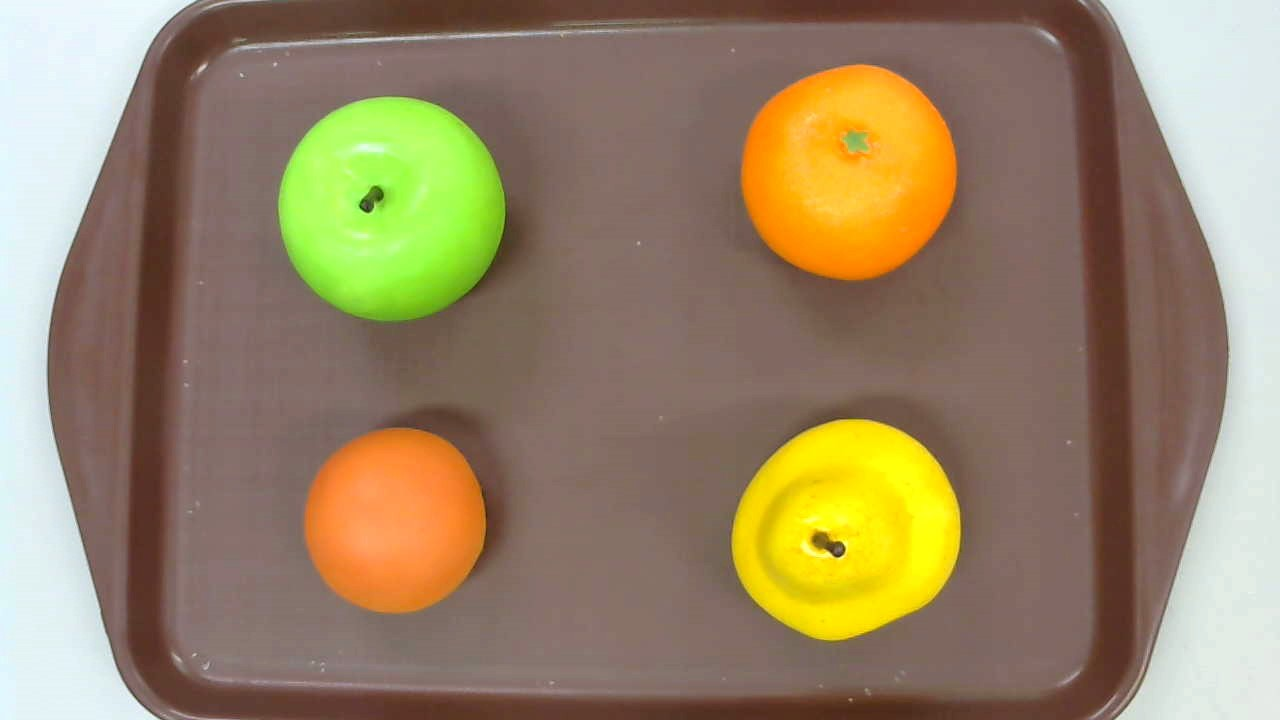bun: (303, 428, 485, 613)
green apple: (278, 97, 507, 323)
orange: (740, 64, 958, 282)
yellow pear: (731, 418, 960, 641)
